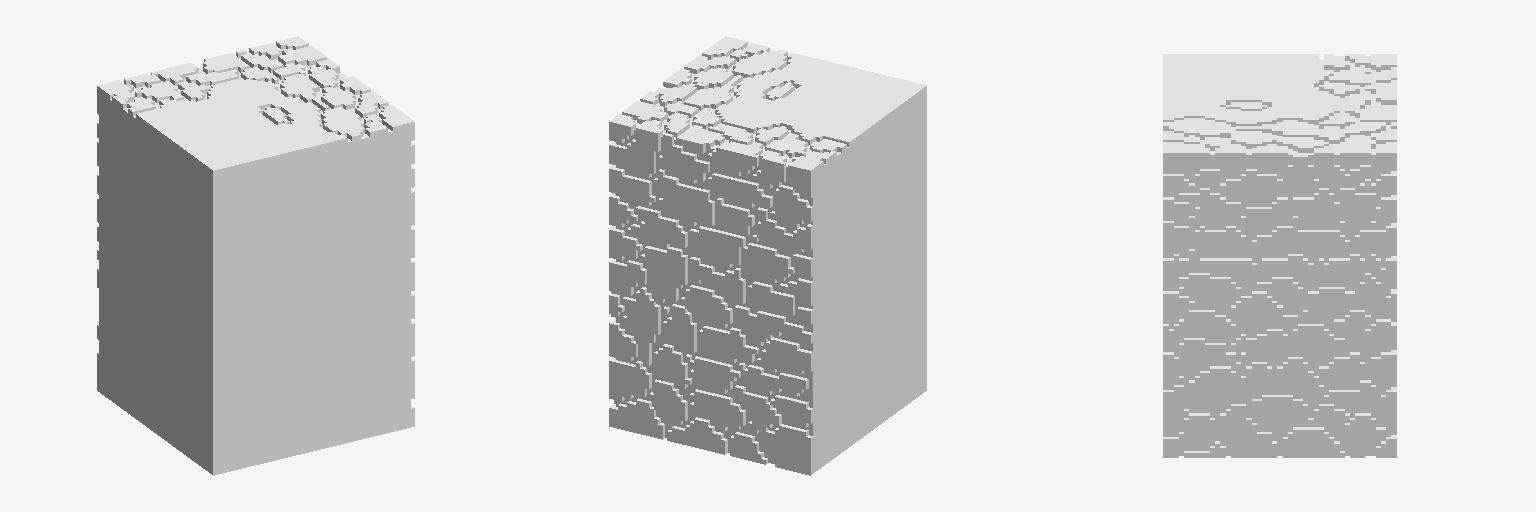
The model's file is ObsidianEdgeTwoSided.obj.
3 views of the same model, side by side, from view 1: azimuth 30°, elevation 25°; view 2: azimuth 150°, elevation 25°; view 3: azimuth 270°, elevation 25° (orthographic).
Size of the model in its own units: 45 by 65 by 45.